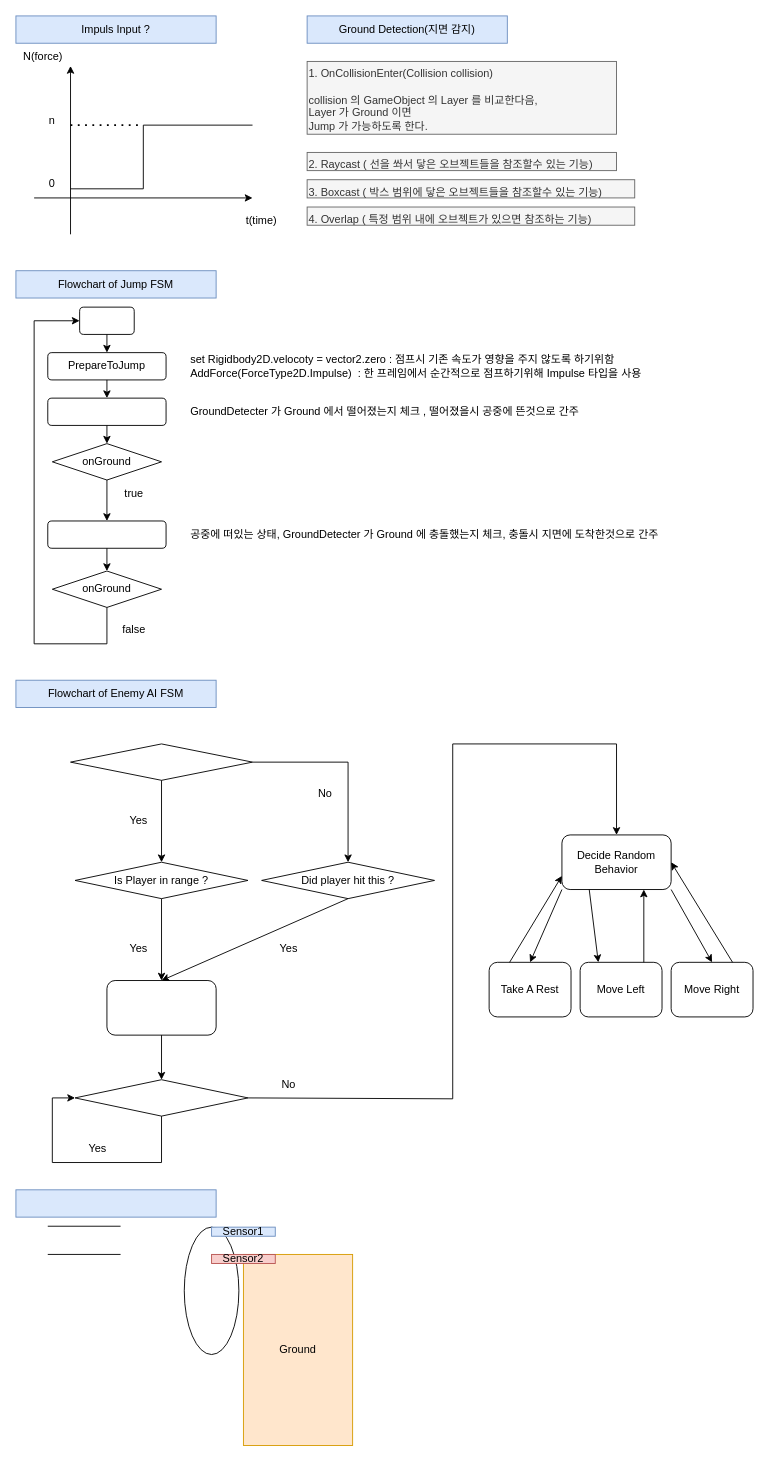
Some shapes in this 769 by 1461 pixel diagram are drawn without their labels. The shapes that lost their labels are listed below. From the top down, each one's centre as x and y in pixels, then its label:
At (x=106, y=320): "Idle".
At (x=106, y=411): "Jumping".
At (x=106, y=534): "InFlight".
At (x=161, y=761): "Is AutoFollow On ?".
At (x=161, y=1007): "Follow Target".
At (x=161, y=1097): "Is Player in range?".
At (x=115, y=1203): "Edge Detection conceptt".
At (x=211, y=1290): "Player".
